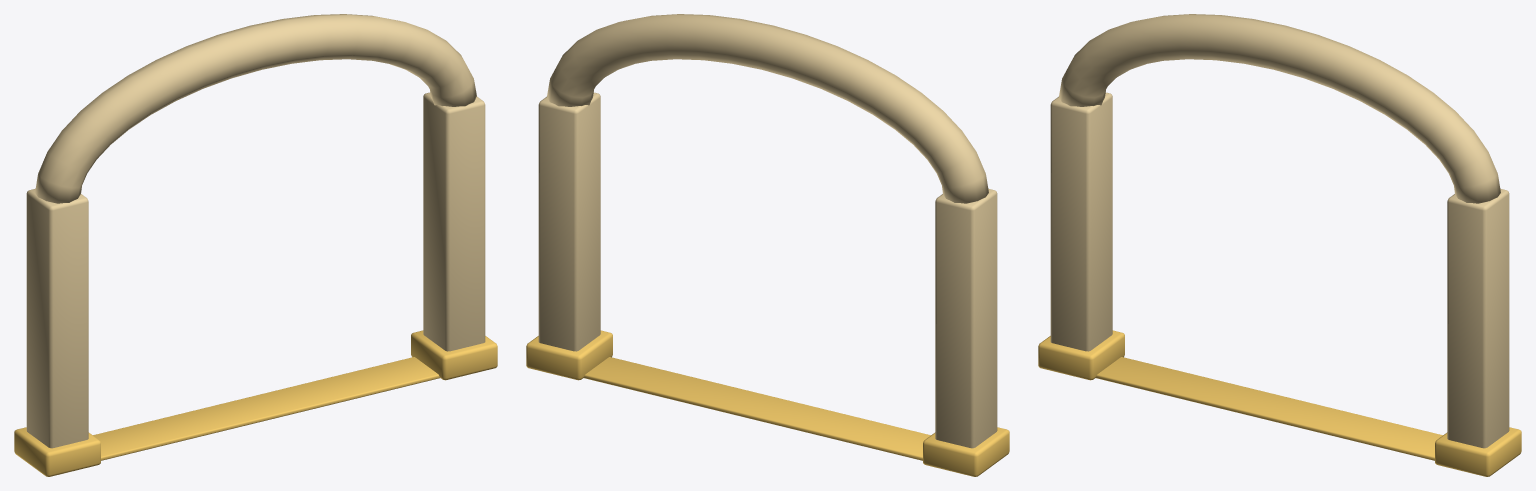
Rendered from exit_gate.glb.
3 renders of one model, left to right at view 1: azimuth 30°, elevation 25°; view 2: azimuth 150°, elevation 25°; view 3: azimuth 330°, elevation 25°, orthographic.
Visible parts, largest first — view 1: exit_gate_Mesh; view 2: exit_gate_Mesh; view 3: exit_gate_Mesh.
Boxes of the visible parts, x1,y1,x2,y2 form: exit_gate_Mesh: (14,14,497,476); exit_gate_Mesh: (526,14,1009,476); exit_gate_Mesh: (1038,14,1521,476).
Size of the model in its own units: 5.7 by 4.63 by 0.75.
